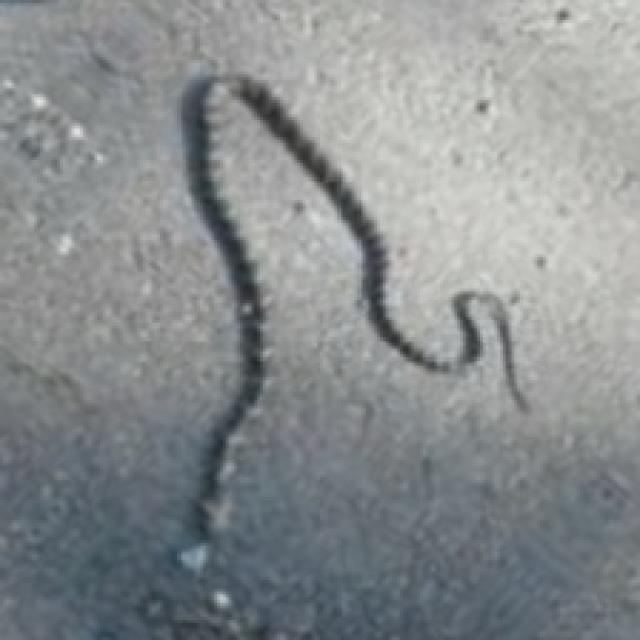king cobra: (180, 74, 526, 534)
